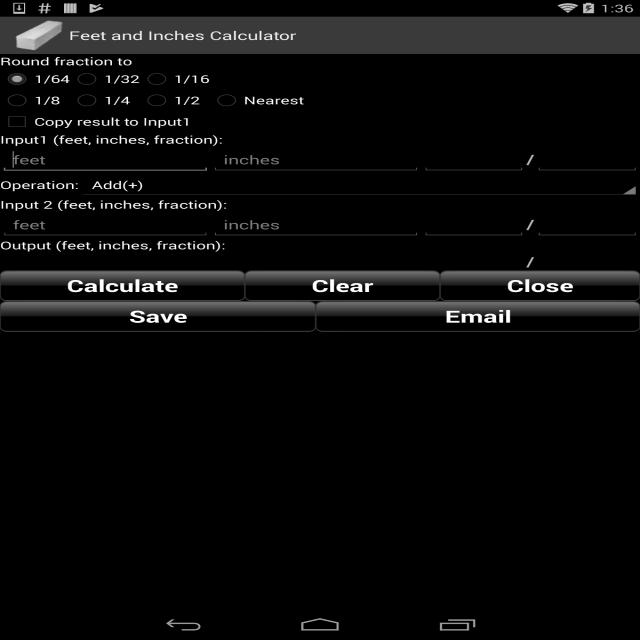Button: (0, 301, 316, 332), (315, 301, 640, 331), (0, 270, 245, 301), (440, 270, 640, 301), (245, 270, 440, 301)
CheckBox: (0, 111, 192, 132)
EditText: (0, 147, 211, 173), (0, 212, 211, 238), (211, 147, 421, 173), (211, 212, 421, 238), (0, 254, 211, 270), (211, 254, 421, 270), (534, 147, 640, 173), (534, 212, 640, 238), (422, 147, 526, 173), (422, 212, 526, 238), (534, 254, 640, 270), (422, 254, 526, 270)
ImageView: (14, 19, 64, 52)
RadioButton: (210, 90, 304, 111), (0, 68, 70, 90), (70, 68, 140, 90), (140, 68, 210, 90), (0, 90, 70, 111), (70, 90, 140, 111), (140, 90, 210, 111)
Spinner: (79, 173, 640, 197)
TextView: (0, 132, 640, 147), (0, 197, 640, 212), (0, 238, 640, 252), (83, 178, 623, 192), (69, 27, 297, 43), (0, 53, 132, 68), (0, 178, 79, 192), (526, 150, 534, 168), (526, 215, 534, 233), (526, 252, 534, 270)
